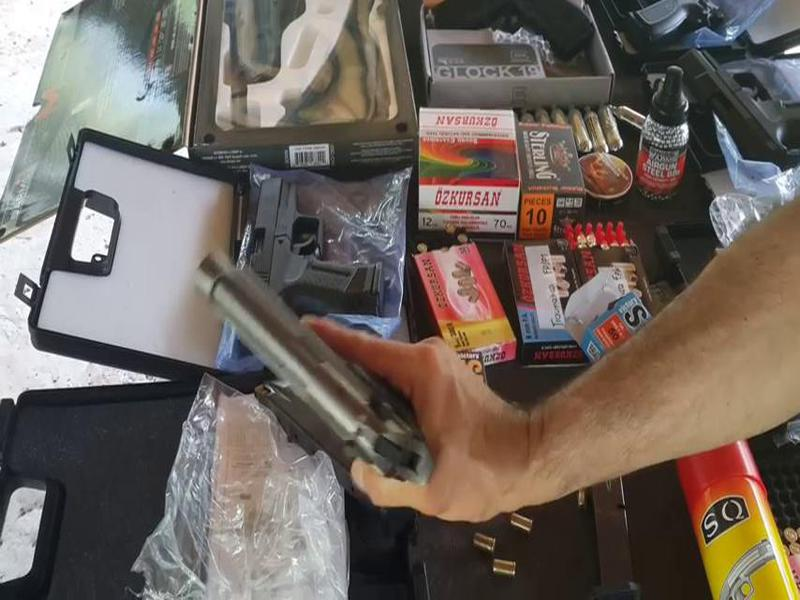Pistola: (166, 238, 442, 482)
